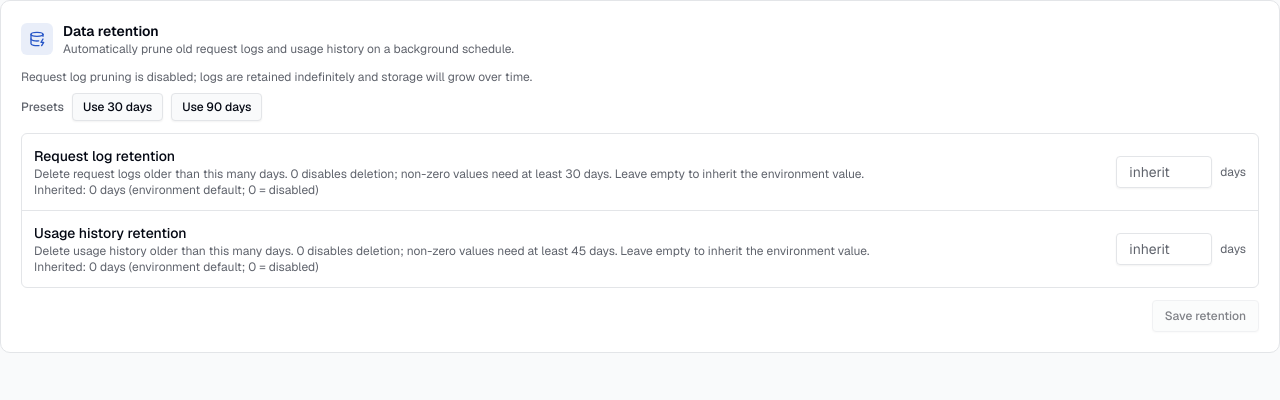
Test case: DataRetentionSettings › rejects request-log values below the 30-day floor
Type "7" into the number field named "Request log retention days" at (1164, 172), box [1116,156,1212,188]
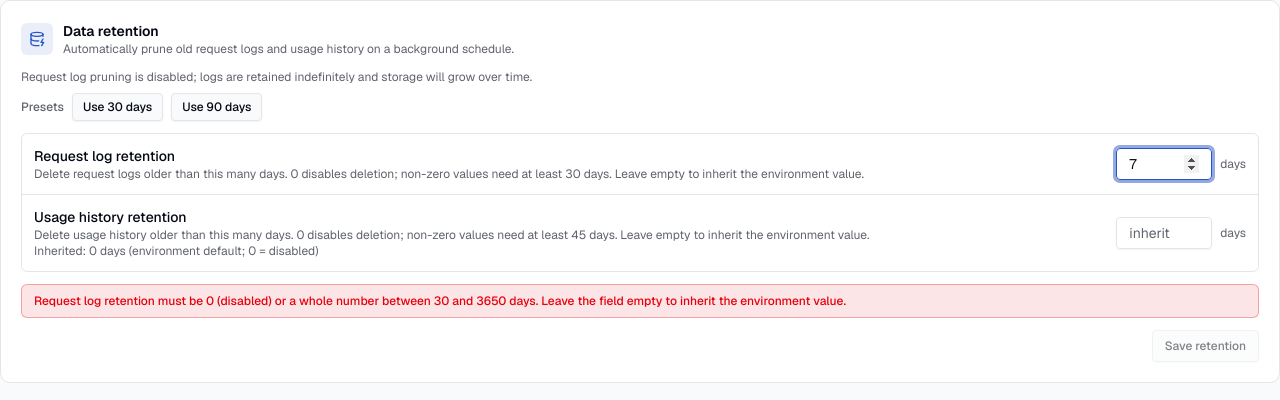
Check: the button "Save retention" is disabled, box [1152,330,1259,362]
Check: the text "Request log retention must be 0 (disabled) or a whole number between 30 and 3650" is shown, box [34,293,846,309]
